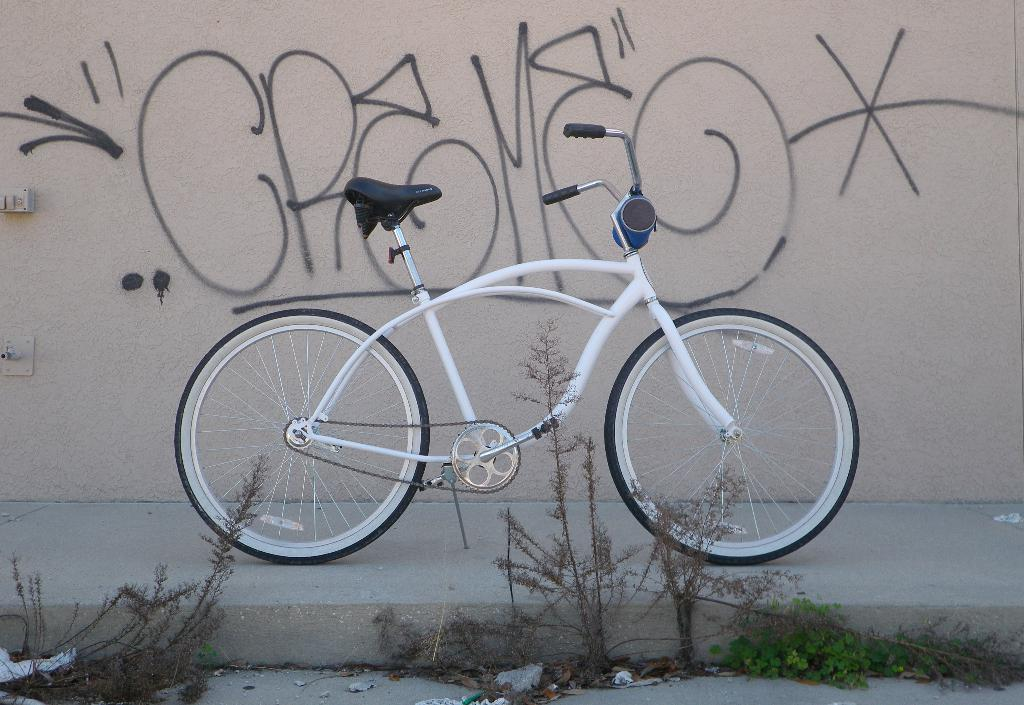Bike_toward: (222, 156, 930, 613)
